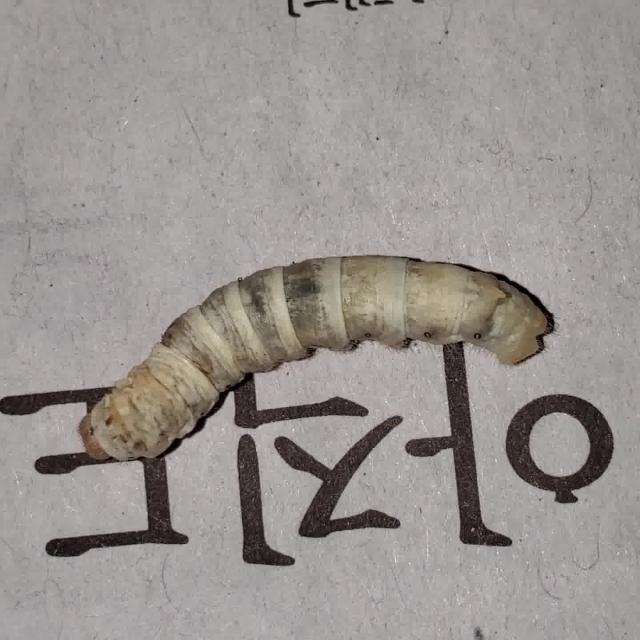Grasserie: (71, 220, 553, 466)
